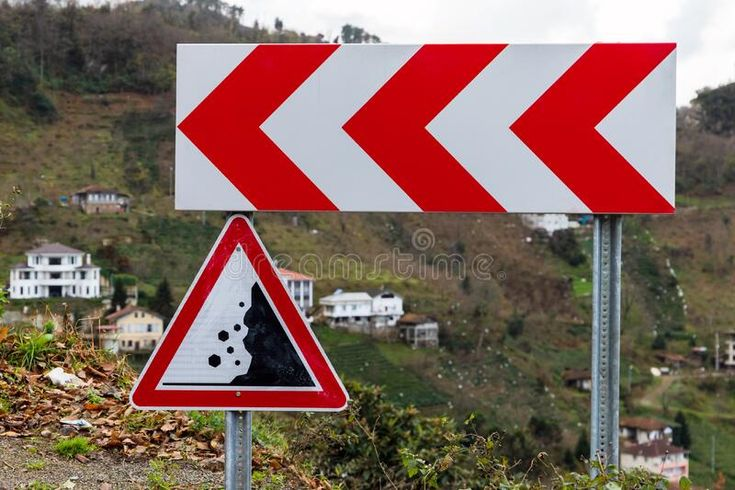FallenSign: (129, 216, 354, 415)
